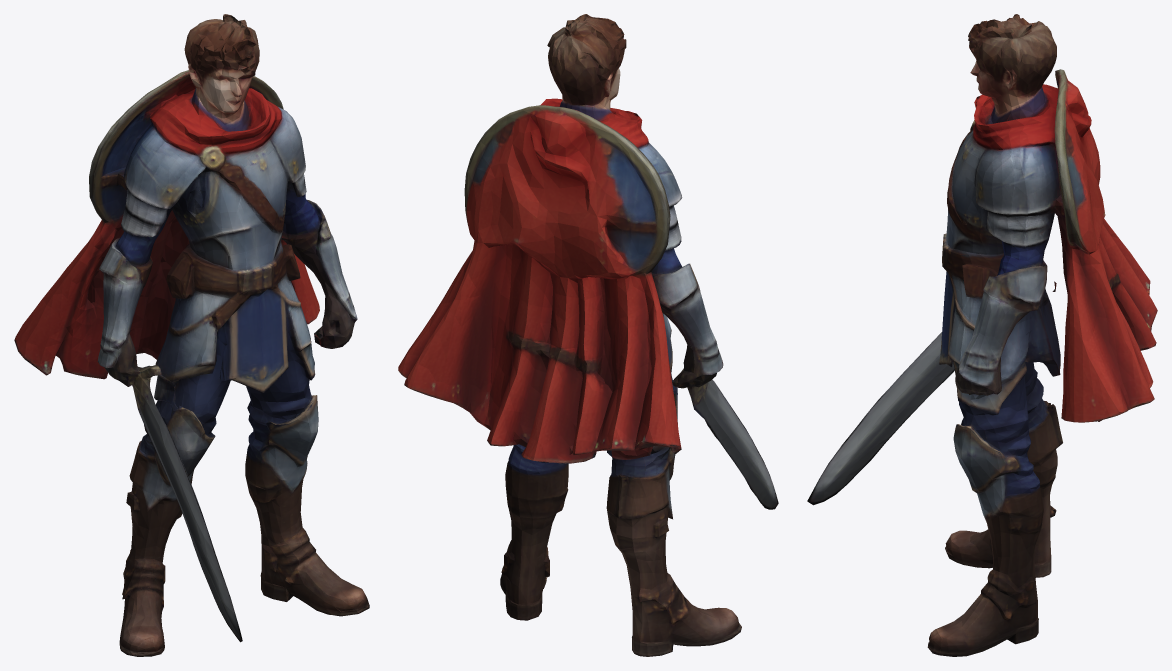
The model's file is avatar.glb.
The picture shows the model from 3 angles, left to right: view 1: azimuth 30°, elevation 25°; view 2: azimuth 150°, elevation 25°; view 3: azimuth 270°, elevation 25°; orthographic projection. The views are drawn at different scales.
Parts seen in each view (by area): view 1: geometry_0; view 2: geometry_0; view 3: geometry_0.
Boxes of the visible parts, x1=… form: geometry_0: x1=14, y1=14, x2=369, y2=656; geometry_0: x1=398, y1=14, x2=778, y2=656; geometry_0: x1=807, y1=14, x2=1157, y2=656.
Bounding box in the file's own units: 0.4989 × 0.9932 × 0.5369.
1 material, 1 textured.
